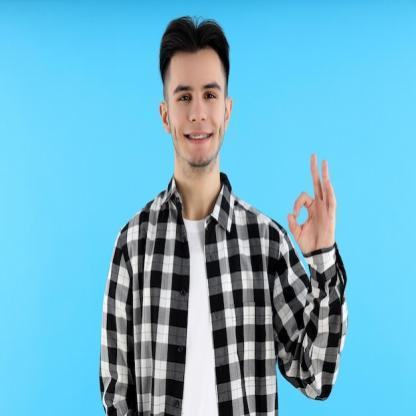ok: (284, 149, 340, 260)
